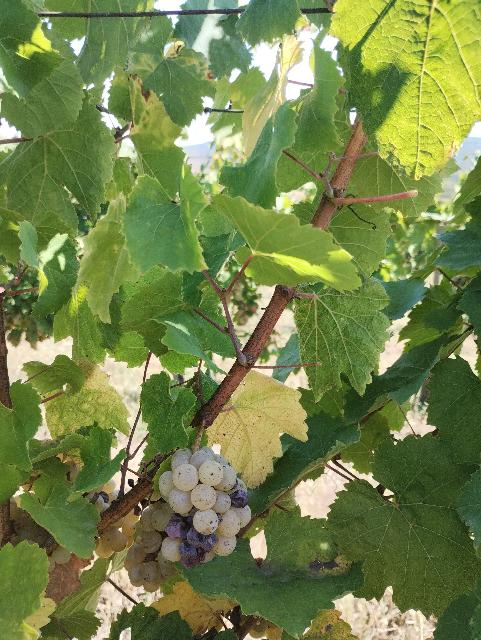grapes: (124, 446, 251, 592)
